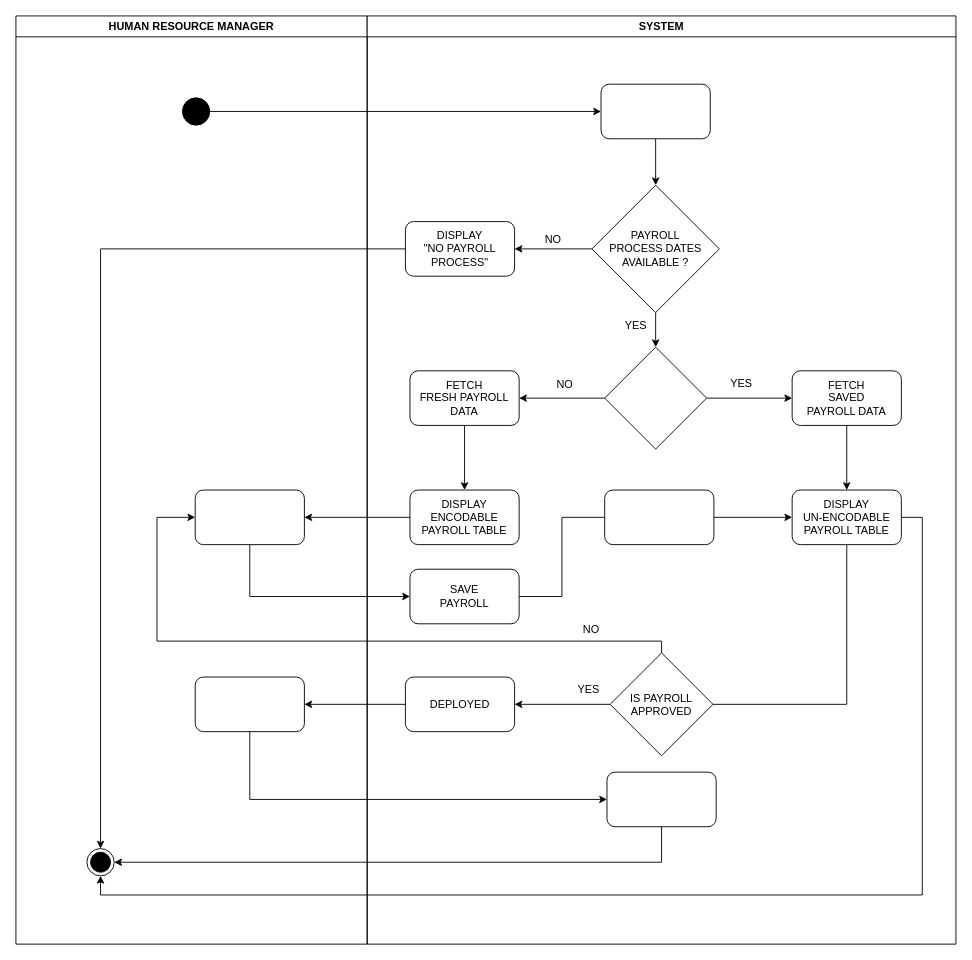
Some shapes in this 972 by 960 pixel diagram are drawn without their labels. The box of each missing label's shape, as (x1, y1, x2, y2) in pixels:
CLICK PRINT PAYSLIPS: (194, 676, 304, 732)
DISPLAY PAYROLL UI: (600, 83, 710, 139)
ENCODE PAYROLLS: (194, 489, 304, 545)
IS PAYROLL DATE DEPLOYED?: (604, 346, 707, 449)
PRINT PAYSLIPS: (606, 771, 716, 827)
WAIT APPROVALS: (604, 489, 714, 545)
